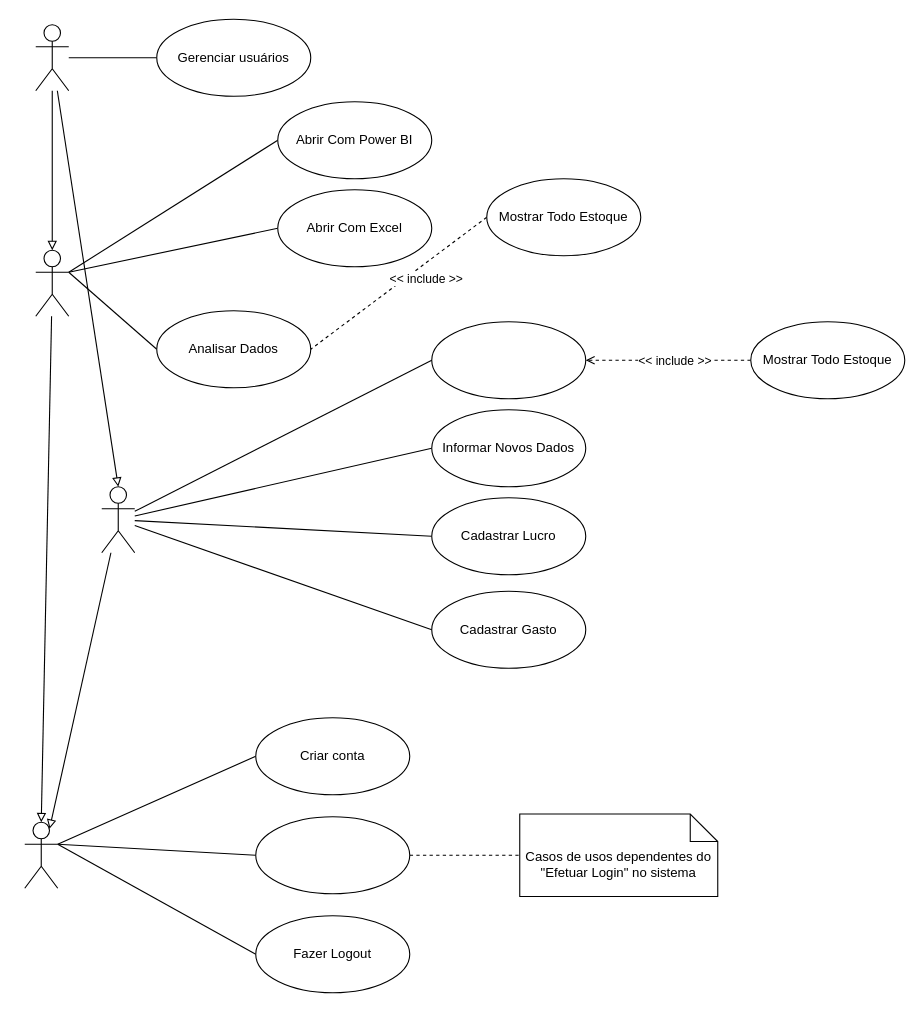
This 924x1012 diagram has some shape labels left out. The shapes that lost their labels are listed below. From the top down, each one's centre as x and y in pixels, then its label:
At point (52, 57): "Admin".
At point (52, 282): "Analista".
At point (508, 360): "Atualizar Estoque".
At point (118, 519): "Funcionário".
At point (41, 854): "Usuário".
At point (332, 855): "Efetuar Login".
